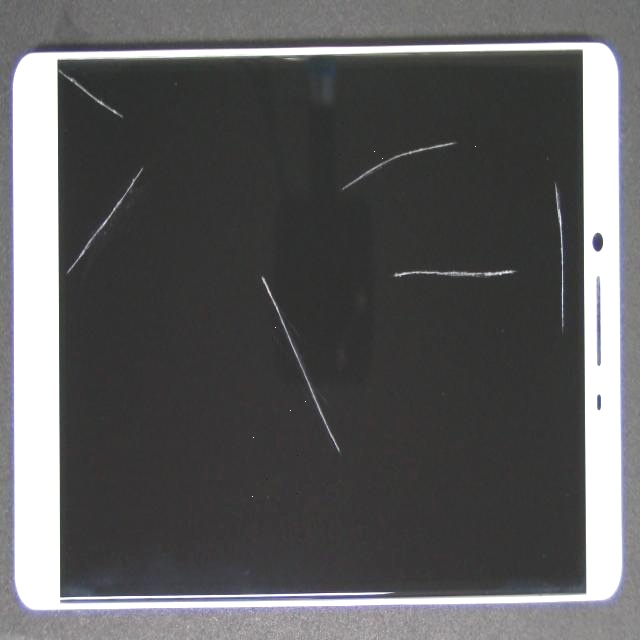scratch: (76, 18, 427, 530), (164, 108, 492, 327)
